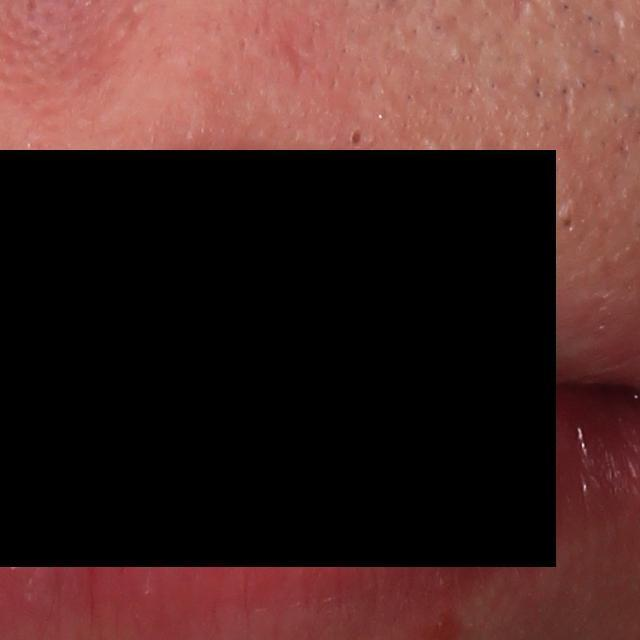comedo: (342, 121, 371, 153), (558, 208, 583, 236)
